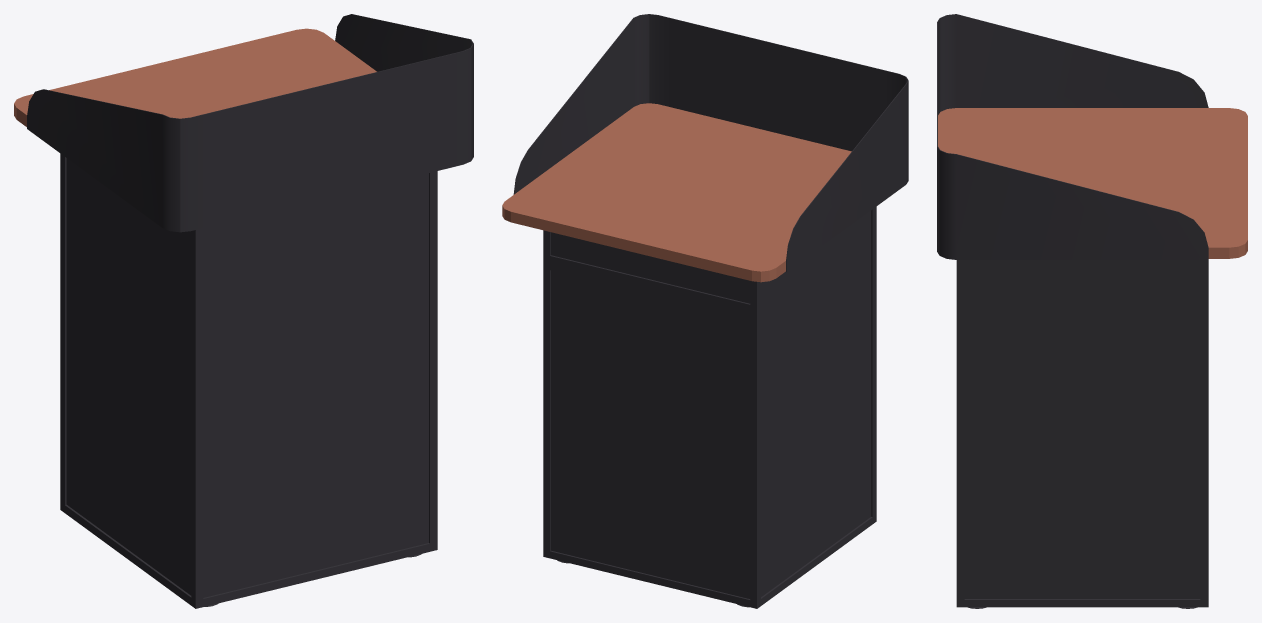
File: podium.fbx
The picture shows the model from 3 angles, left to right: view 1: azimuth 30°, elevation 25°; view 2: azimuth 150°, elevation 25°; view 3: azimuth 270°, elevation 25°; orthographic projection. The views are drawn at different scales.
Parts seen in each view (by area): view 1: Cube, Cube.002, Cube.001; view 2: Cube, Cube.002, Cube.001; view 3: Cube, Cube.002, Cube.001.
Boxes of the visible parts, box(x1,y1,x2,y2) form: Cube: box(60, 153, 437, 608); Cube.002: box(27, 14, 473, 232); Cube.001: box(14, 28, 376, 126); Cube: box(543, 206, 876, 608); Cube.002: box(513, 14, 908, 271); Cube.001: box(502, 103, 851, 282); Cube: box(956, 260, 1208, 607); Cube.002: box(937, 14, 1208, 259); Cube.001: box(938, 108, 1247, 258).
Size of the model in its own units: 80.42 by 126 by 75.2.
